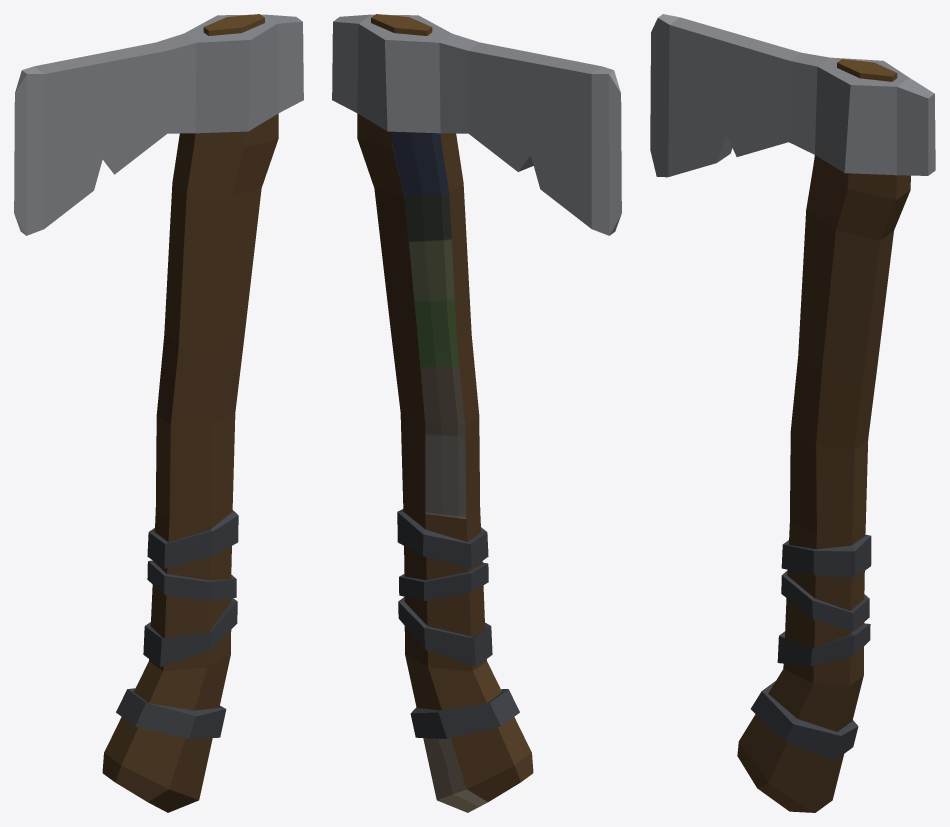
File: SmallAxe.glb
3 views of the same model, side by side, from view 1: azimuth 30°, elevation 25°; view 2: azimuth 150°, elevation 25°; view 3: azimuth 330°, elevation 25° (orthographic).
Parts seen in each view (by area): view 1: SmallAxe; view 2: SmallAxe; view 3: SmallAxe.
Boxes of the visible parts, box(x1,y1,x2,y2) form: SmallAxe: box(14, 14, 303, 812); SmallAxe: box(332, 14, 621, 812); SmallAxe: box(650, 14, 935, 812).
Size of the model in its own units: 7064 by 18167 by 1632.
1 material, 1 textured.
